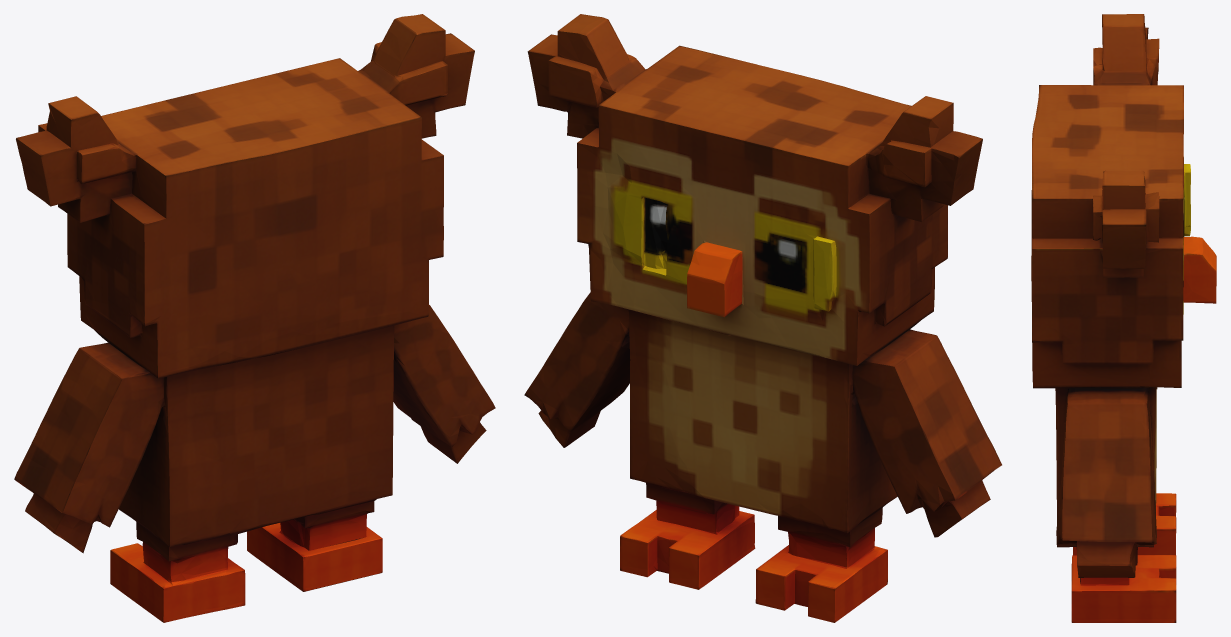
Rendered from GufoTortillo.glb.
3 views of the same model, side by side, from view 1: azimuth 30°, elevation 25°; view 2: azimuth 150°, elevation 25°; view 3: azimuth 270°, elevation 25° (orthographic). The views are drawn at different scales.
Visible parts, largest first — view 1: geometry_0; view 2: geometry_0; view 3: geometry_0.
Part boxes in pixels (bbox=[...]): geometry_0: bbox=[14, 14, 495, 622]; geometry_0: bbox=[524, 14, 1001, 622]; geometry_0: bbox=[1031, 14, 1216, 622].
Bounding box in the file's own units: 0.8854 × 1 × 0.3526.
Materials: 1 (1 with a texture image).
